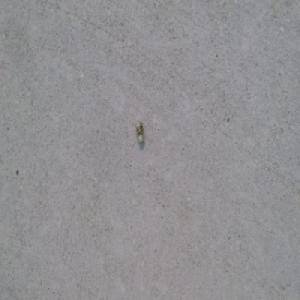BoltNutSet: (134, 121, 144, 144)
